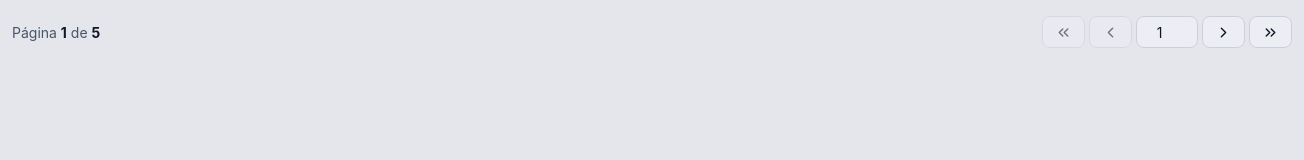
Pagination › rejects a page outside the available range
The width and height of the screenshot is (1304, 160).
Replace the text in the number field named "Página" with "9" at (1167, 32), box 1136,16 -> 1198,48
Then press Enter
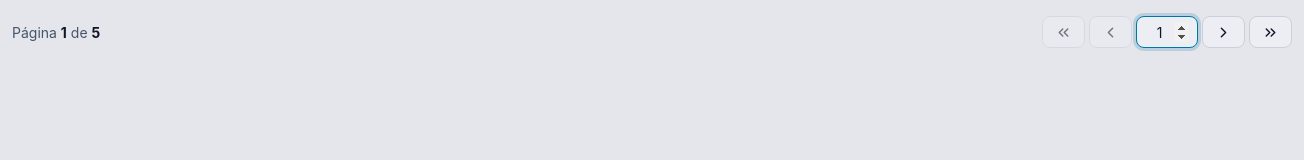
Expected: the navigation bar named "Paginación de resultados" reads "Página 1 de 5", 12,0 -> 1292,48
Result: the number field named "Página" holds "1" at 1136,16 -> 1198,48
